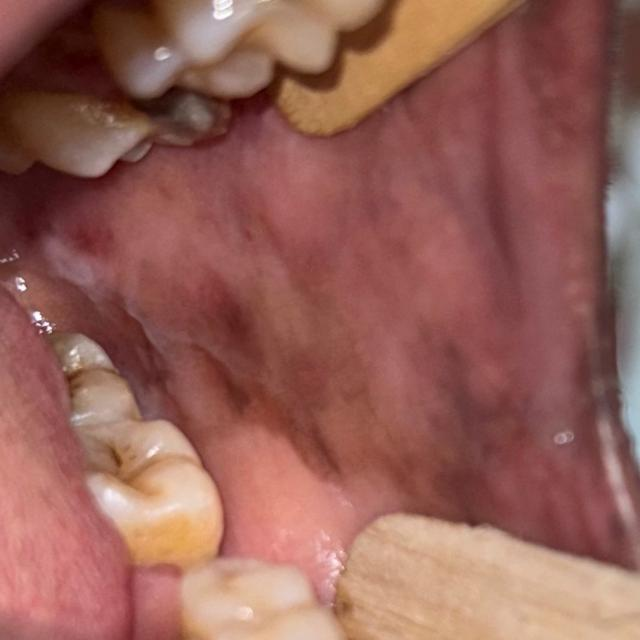leukoplakia-like-detection: (29, 200, 499, 518)
processing_area: (9, 2, 639, 572)
